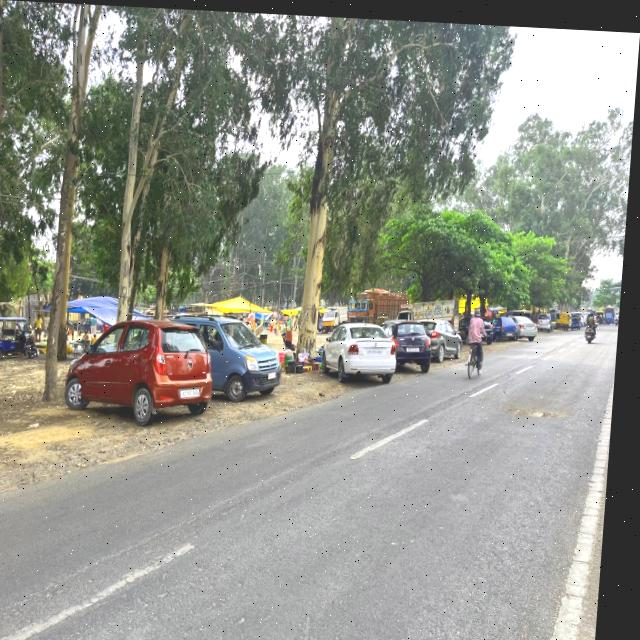bike: (589, 315, 603, 339)
car: (67, 313, 225, 432), (189, 308, 294, 399), (323, 314, 402, 386), (386, 311, 443, 368), (426, 311, 470, 360), (517, 307, 545, 334), (497, 308, 522, 336), (540, 305, 559, 327), (499, 323, 499, 323)
